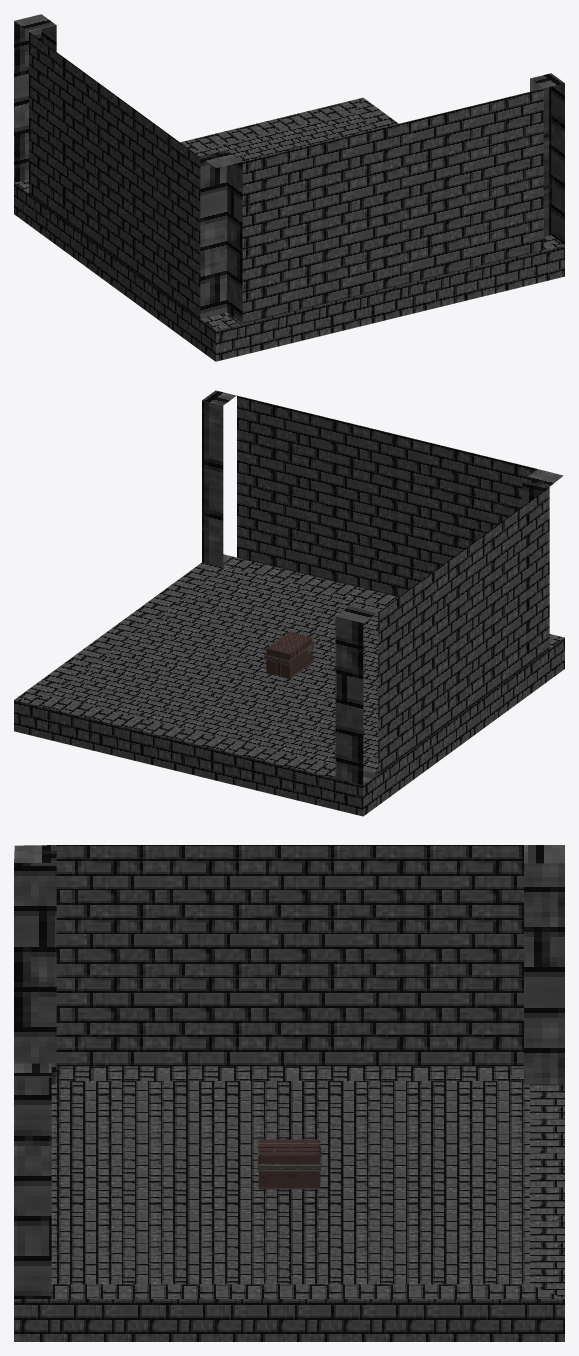
Rendered from pixel_assets.glb.
The picture shows the model from 3 angles, top to bottom: view 1: azimuth 30°, elevation 25°; view 2: azimuth 150°, elevation 25°; view 3: azimuth 270°, elevation 25°; orthographic projection. The views are drawn at different scales.
Visible parts, largest first — view 1: Walls, Floor; view 2: Walls, Floor, Chest; view 3: Floor, Walls, Chest.
Part boxes in pixels (<box>): Walls: <box>14,14,564,323</box>; Floor: <box>14,97,564,361</box>; Walls: <box>202,390,563,784</box>; Floor: <box>14,554,564,816</box>; Chest: <box>264,632,314,678</box>; Floor: <box>14,1066,564,1341</box>; Walls: <box>14,845,564,1298</box>; Chest: <box>257,1139,321,1189</box>.
Size of the model in its own units: 60.57 by 32.03 by 60.57.
Materials: 3 (3 with a texture image).
